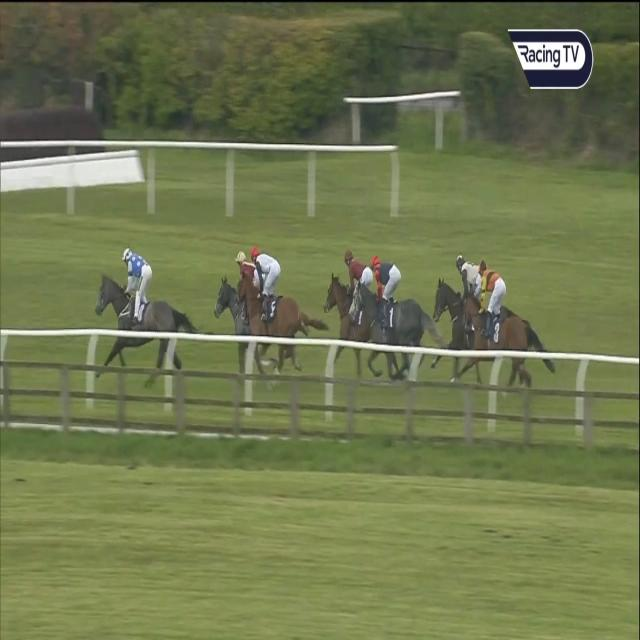horses-racing: (459, 259, 559, 389), (95, 245, 190, 376), (350, 253, 430, 383), (235, 245, 310, 378), (310, 232, 369, 370), (425, 246, 478, 361), (211, 240, 245, 356)
